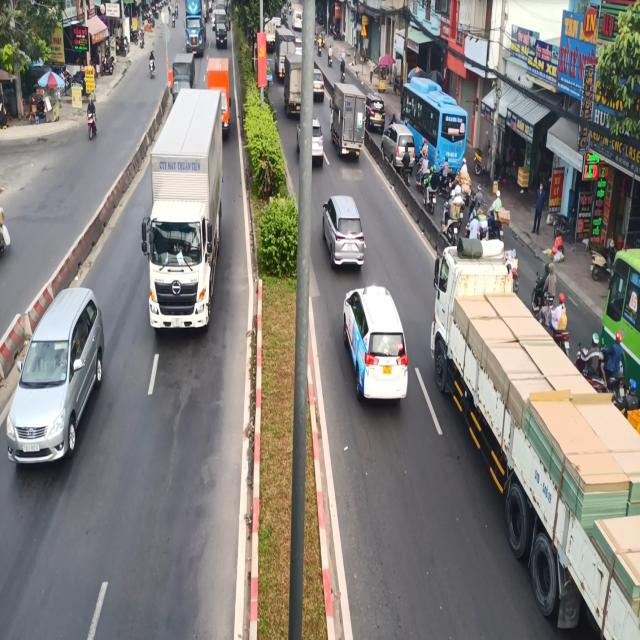car: (6, 280, 106, 483), (336, 281, 409, 422)
truck: (142, 85, 225, 348)
